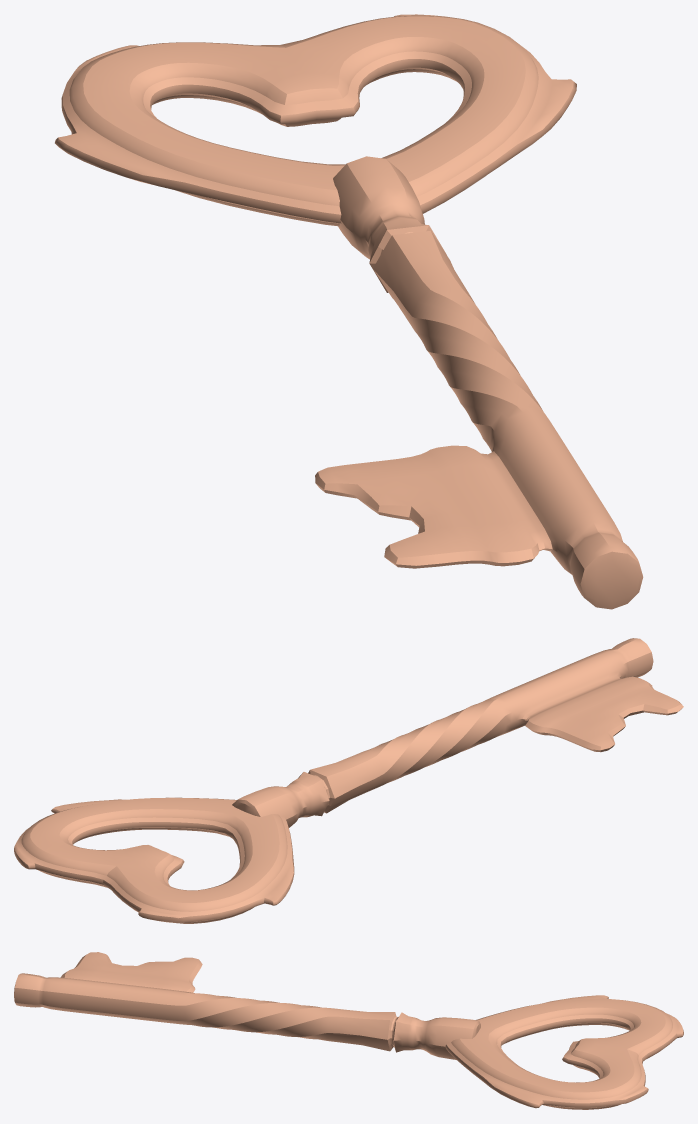
File: Key_Hearts.glb
3 views of the same model, one above another, from view 1: azimuth 30°, elevation 25°; view 2: azimuth 150°, elevation 25°; view 3: azimuth 270°, elevation 25° (orthographic). The views are drawn at different scales.
Parts seen in each view (by area): view 1: KeyofHearts, StemHearts; view 2: StemHearts, KeyofHearts; view 3: StemHearts, KeyofHearts.
Boxes of the visible parts, box(x1,y1,x2,y2) form: KeyofHearts: box(55, 14, 576, 226); StemHearts: box(315, 156, 643, 609); StemHearts: box(232, 638, 683, 827); KeyofHearts: box(14, 797, 294, 923); StemHearts: box(14, 952, 480, 1059); KeyofHearts: box(445, 995, 683, 1109).
Bounding box in the file's own units: 0.3254 × 0.0375 × 0.6.
